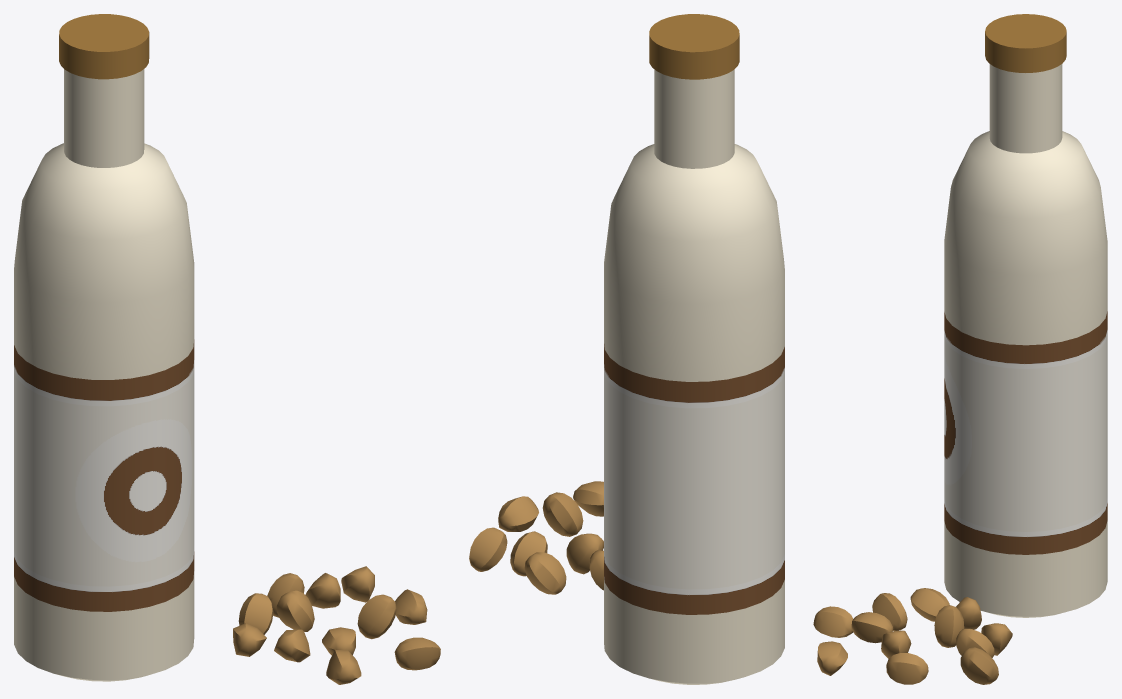
Rendered from Horchata.fbx.
3 views of the same model, side by side, from view 1: azimuth 30°, elevation 25°; view 2: azimuth 150°, elevation 25°; view 3: azimuth 270°, elevation 25° (orthographic). The views are drawn at different scales.
Parts seen in each view (by area): view 1: Horchata; view 2: Horchata; view 3: Horchata.
Boxes of the visible parts, box(x1,y1,x2,y2) form: Horchata: box(14, 14, 440, 684); Horchata: box(469, 14, 784, 684); Horchata: box(813, 14, 1107, 684).
Size of the model in its own units: 0.1534 by 0.272 by 0.1297.
4 materials, 1 textured.
